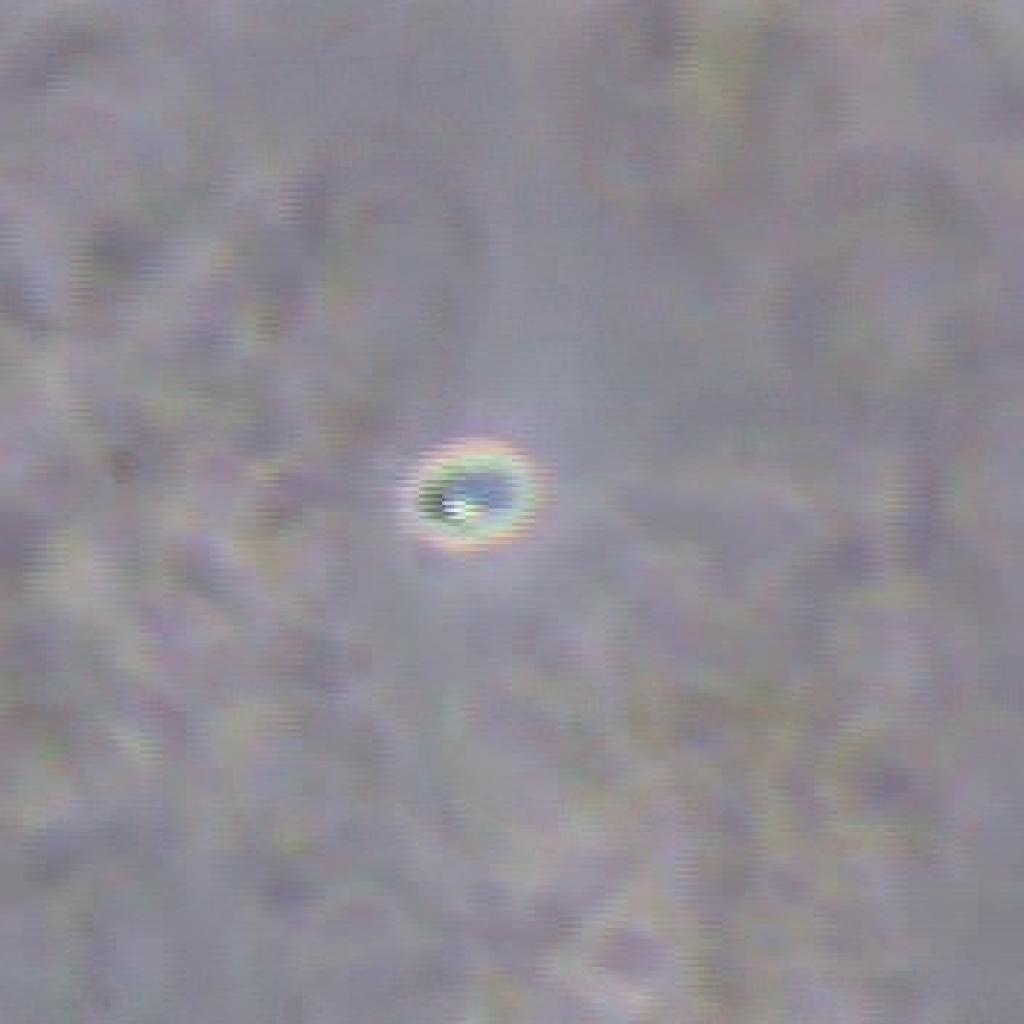Cyclidium: (390, 418, 561, 560)
